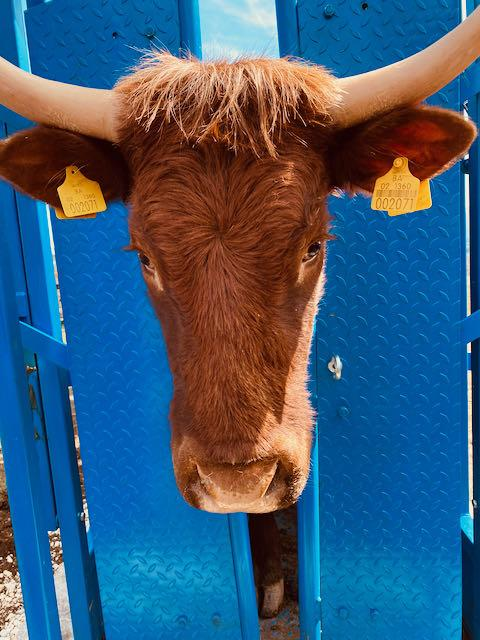muzzles: (164, 452, 323, 518)
